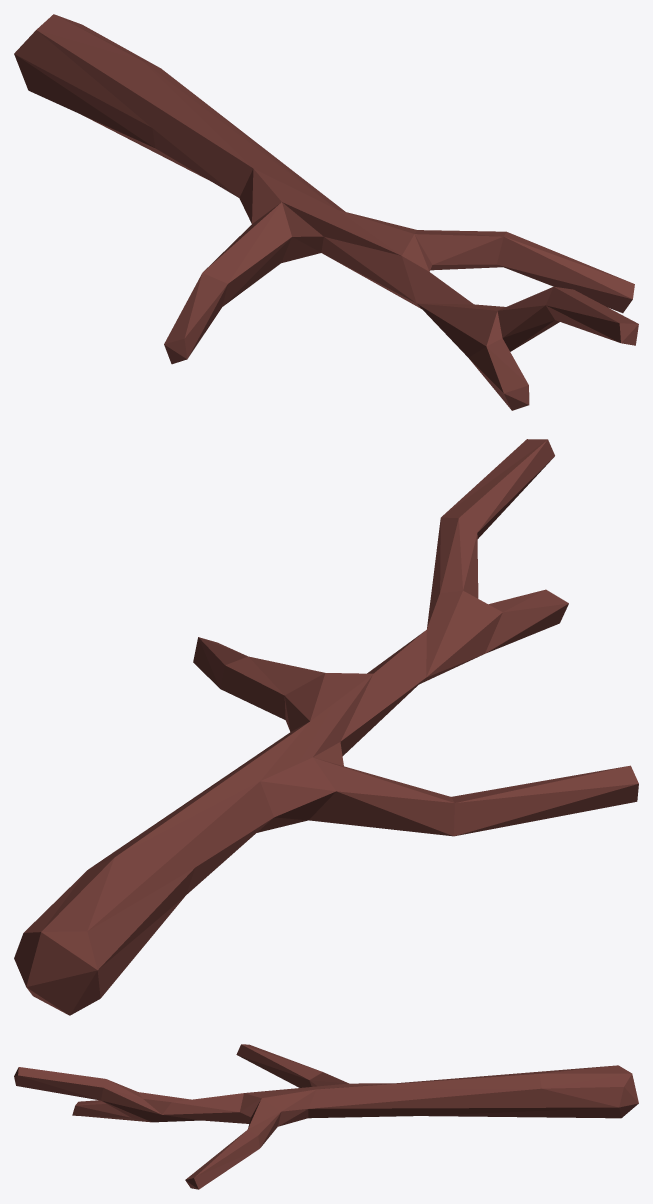
File: Branch03.fbx
3 renders of one model, top to bottom at view 1: azimuth 30°, elevation 25°; view 2: azimuth 150°, elevation 25°; view 3: azimuth 270°, elevation 25°, orthographic. The views are drawn at different scales.
Parts seen in each view (by area): view 1: Branch_03; view 2: Branch_03; view 3: Branch_03.
Boxes of the visible parts, x1,y1,x2,y2 form: Branch_03: [14, 14, 638, 410]; Branch_03: [14, 439, 638, 1015]; Branch_03: [14, 1044, 638, 1189].
Size of the model in its own units: 81.27 by 23.38 by 169.
